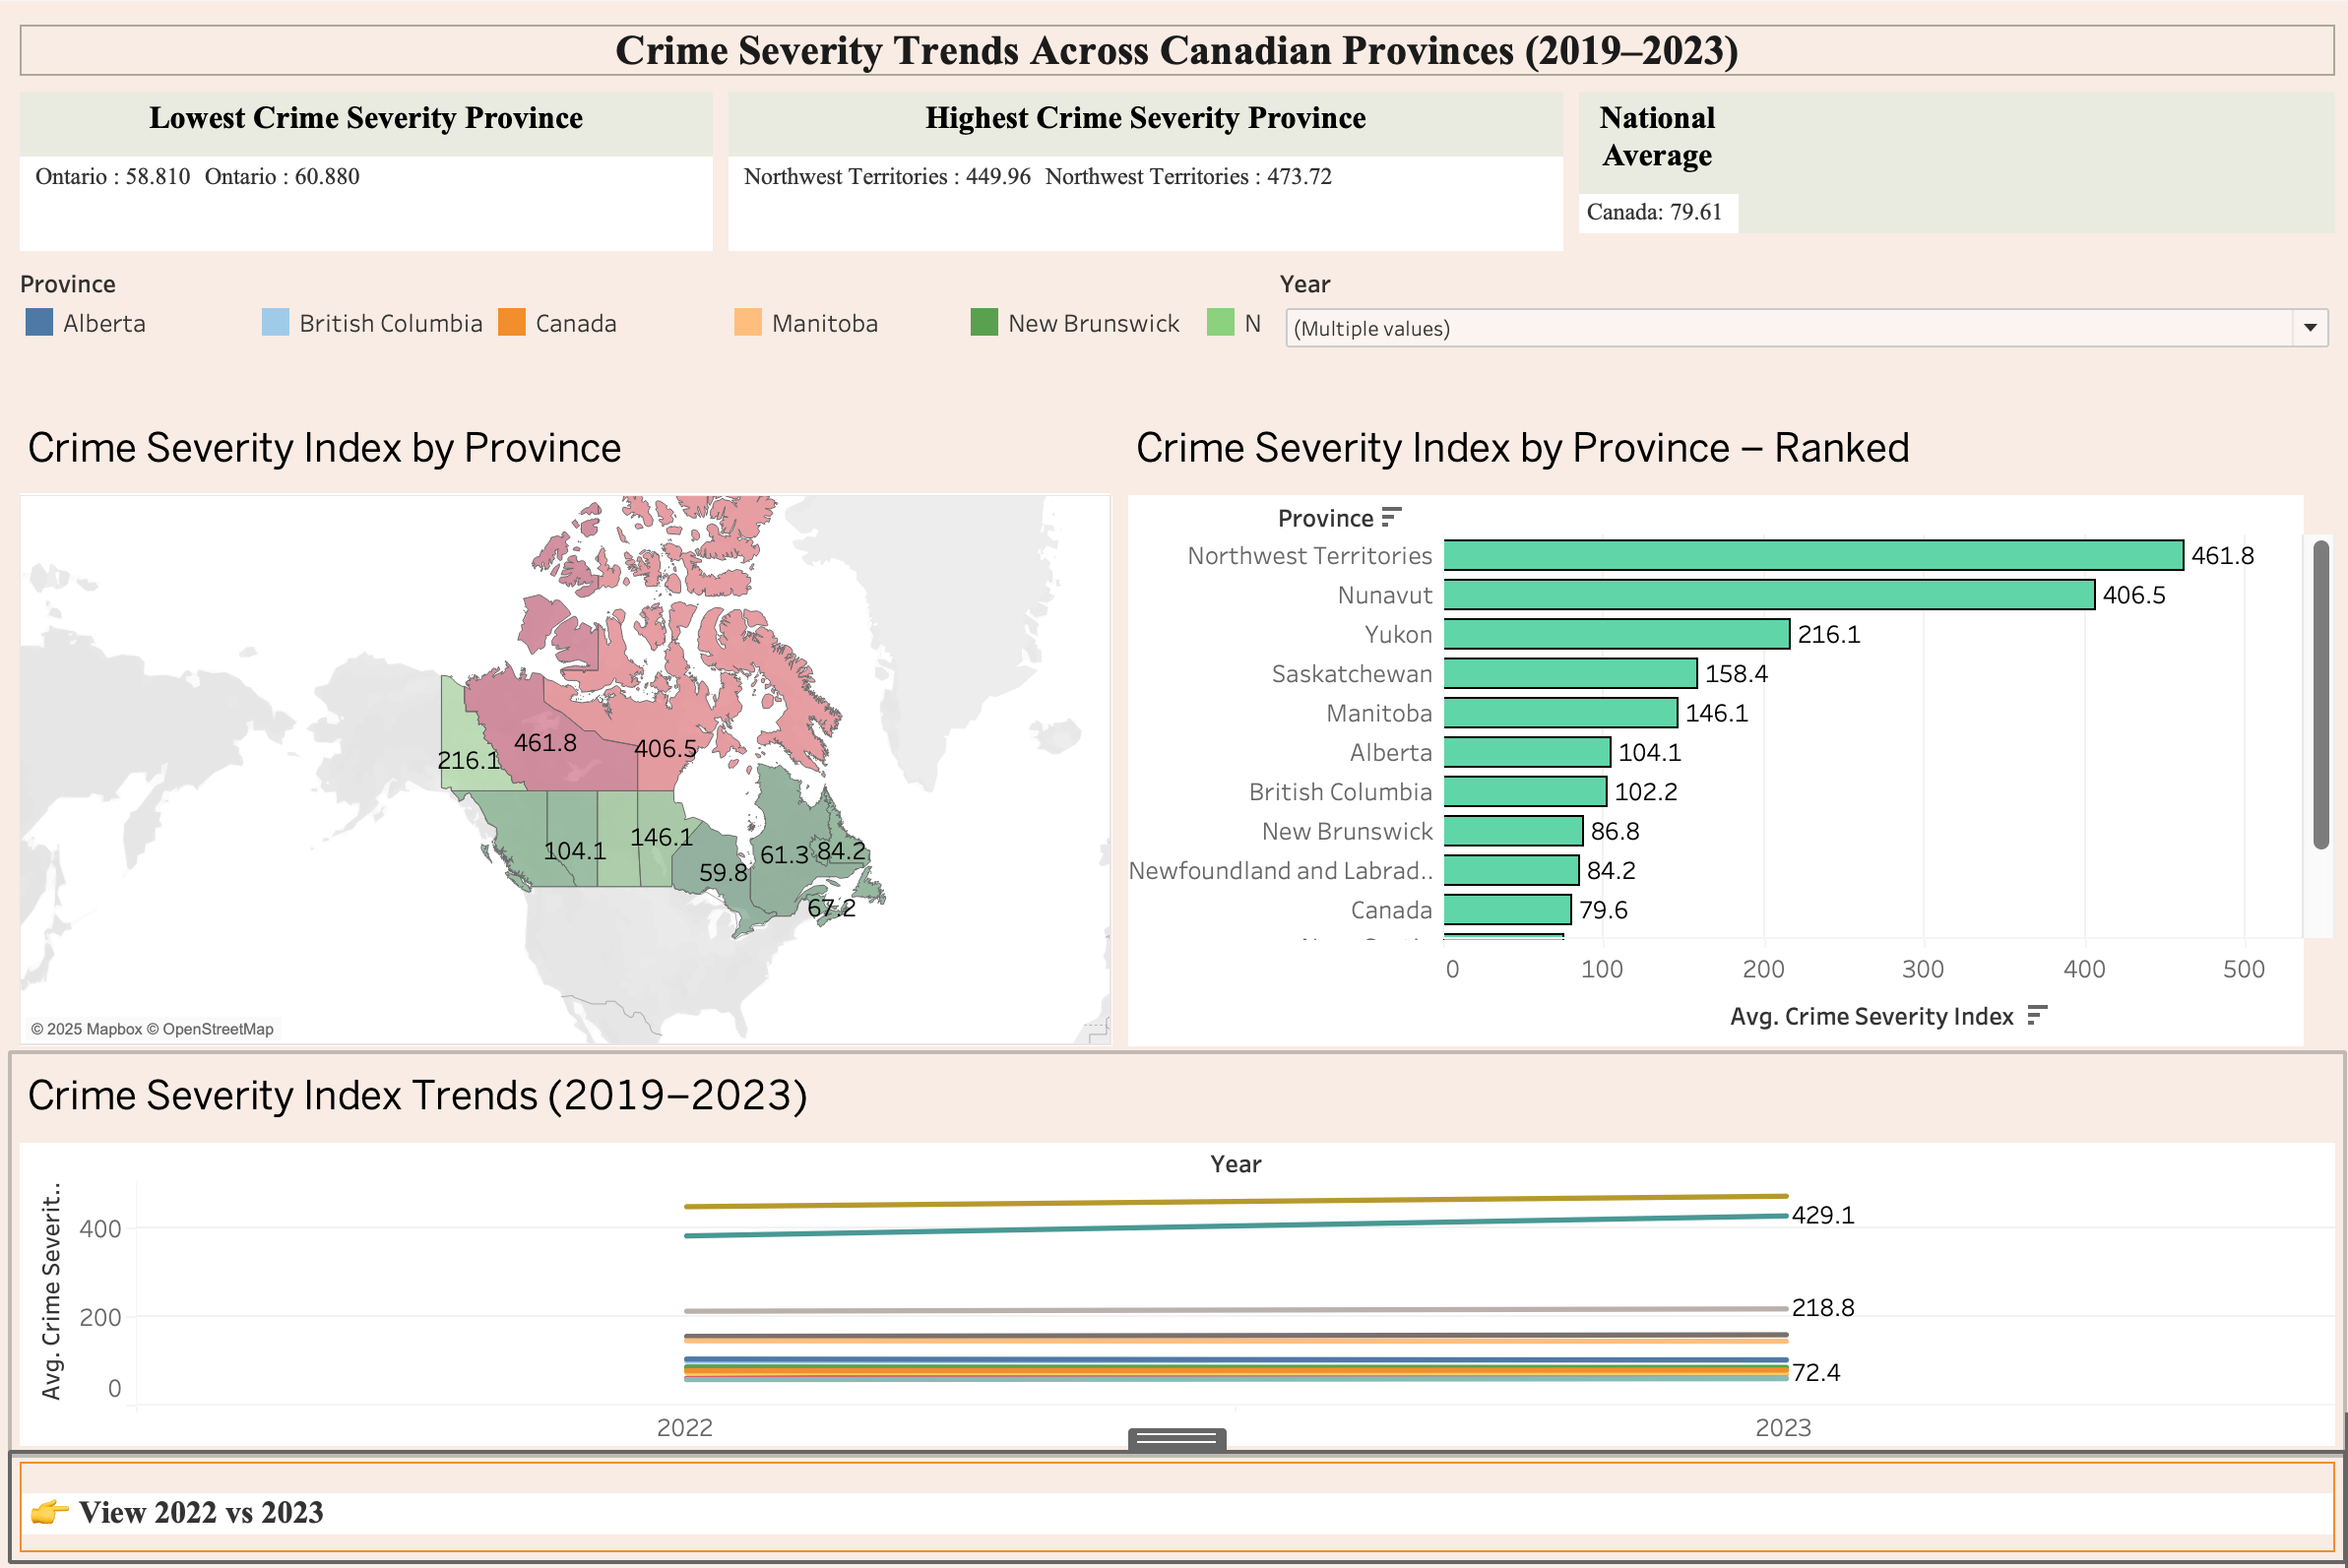

The dashboard page shown, as its layout file describes it:
{"tool":"tableau","page":{"name":"Dashboard 1","canvas":[1000,1000],"units":"permille","ordinal":0},"visuals":[{"type":"title","box":[8.7,13.2,982.7,56.2]},{"type":"worksheet","title":"Sheet 4 (2)","mark":"Automatic","box":[8.7,69.4,390,147.1]},{"type":"worksheet","title":"Sheet 4","mark":"Automatic","box":[398.7,69.4,267.2,147.1]},{"type":"worksheet","title":"Sheet 6","mark":"Automatic","box":[666,69.4,325.4,147.1]},{"type":"legend","title":"Sheet 1","param":"[federated.00ublpb0pu3c5h1deo0vg065k43z].[none:Province:nk]","box":[8.7,216.5,491.3,87]},{"type":"filter","title":"Sheet 3","param":"[federated.00ublpb0pu3c5h1deo0vg065k43z].[none:Pivot Field Names:nk]","box":[500,216.5,491.3,87]},{"type":"worksheet","title":"Sheet 2","mark":"Automatic","box":[8.7,303.6,459.9,381.5]},{"type":"worksheet","title":"Sheet 3","mark":"Automatic","rows":["Province"],"cols":["Pivot Field Values"],"box":[468.6,303.6,522.8,381.5]},{"type":"worksheet","title":"Sheet 1","mark":"Line","rows":["Pivot Field Values"],"cols":["Pivot Field Names"],"box":[8.7,685,982.7,234.7]},{"type":"worksheet","title":"GotoDashboard2","mark":"Text","box":[8.7,919.7,982.7,67.1]}]}

Visuals, with their boxes on the dashboard's canvas, which has no fixed pixel size, in thousandths of its width and height (x1, y1, x2, y2). These are canvas units, not pixel positions in the 2348x1568 screenshot, which may show the page scaled, cropped or inside an application window:
title: [9, 13, 991, 69]
"Sheet 4 (2)" worksheet: [9, 69, 399, 216]
"Sheet 4" worksheet: [399, 69, 666, 216]
"Sheet 6" worksheet: [666, 69, 991, 216]
"Sheet 1" legend: [9, 216, 500, 304]
"Sheet 3" filter: [500, 216, 991, 304]
"Sheet 2" worksheet: [9, 304, 469, 685]
"Sheet 3" worksheet: [469, 304, 991, 685]
"Sheet 1" worksheet (Line marks): [9, 685, 991, 920]
"GotoDashboard2" worksheet (Text marks): [9, 920, 991, 987]
